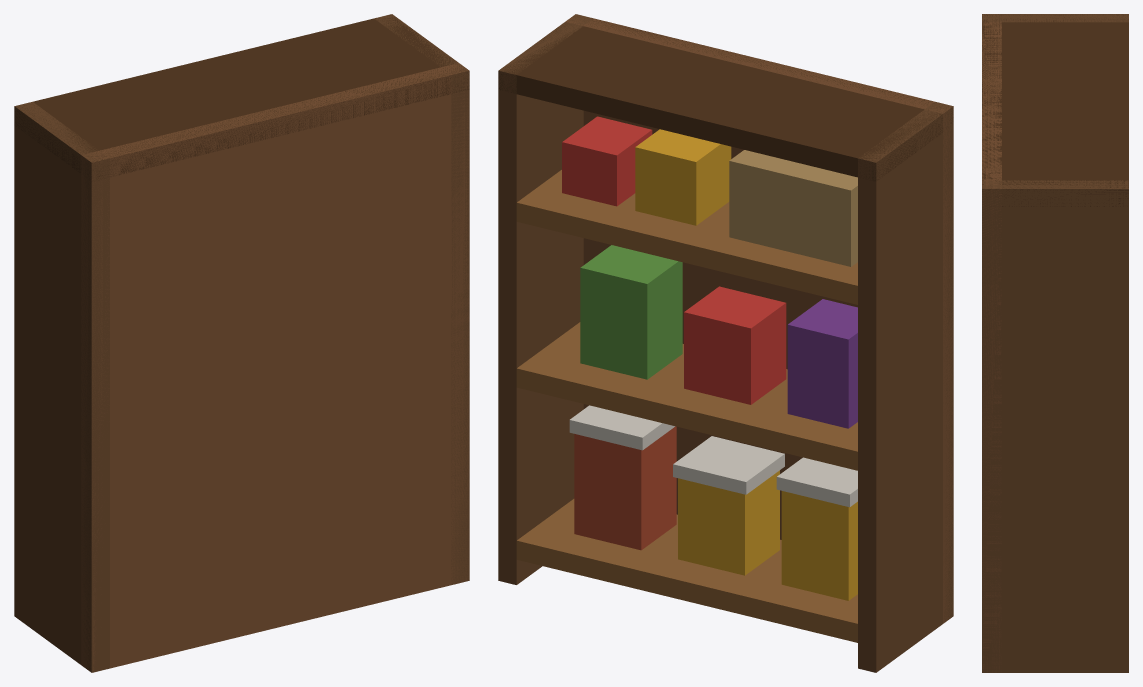
File: kr-jar-shelf.glb
3 views of the same model, side by side, from view 1: azimuth 30°, elevation 25°; view 2: azimuth 150°, elevation 25°; view 3: azimuth 270°, elevation 25° (orthographic). The views are drawn at different scales.
Parts seen in each view (by area): view 1: box-prop; view 2: box-prop; view 3: box-prop.
Boxes of the visible parts, x1,y1,x2,y2 form: box-prop: [14, 14, 469, 672]; box-prop: [498, 14, 953, 672]; box-prop: [982, 14, 1128, 672].
Size of the model in its own units: 1.24 by 1.6 by 0.44.
